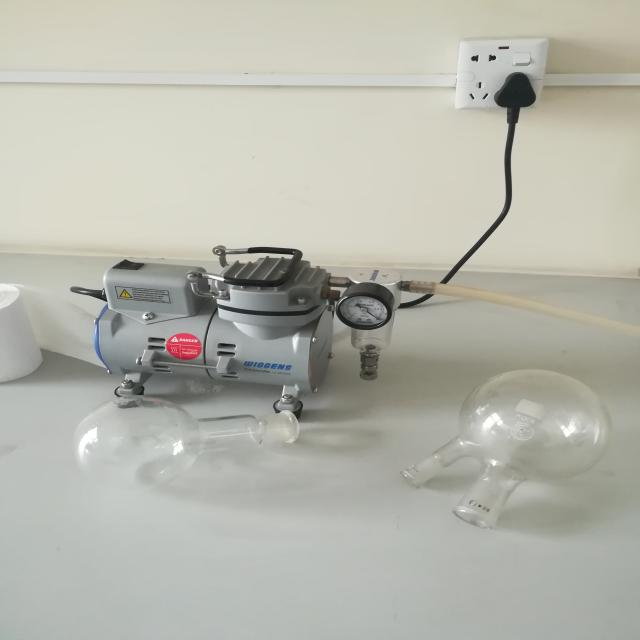Round_Bottom_Flask_Borosilicate_Glass_1_Neck: (46, 392, 330, 511)
Round_Bottom_Flask_Borosilicate_Glass_2_Neck: (383, 350, 623, 555)
